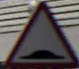Speed Breaker ahead: (6, 3, 68, 62)
